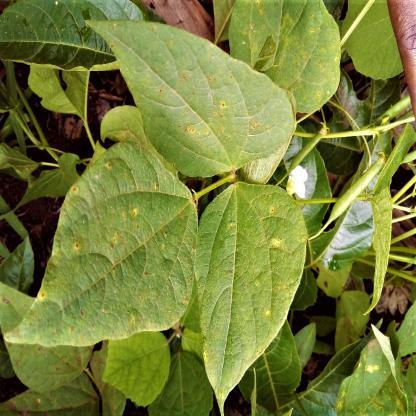Beans_Rust: (4, 144, 200, 344), (83, 19, 295, 174), (200, 183, 305, 414), (228, 0, 341, 113), (342, 332, 406, 416)
